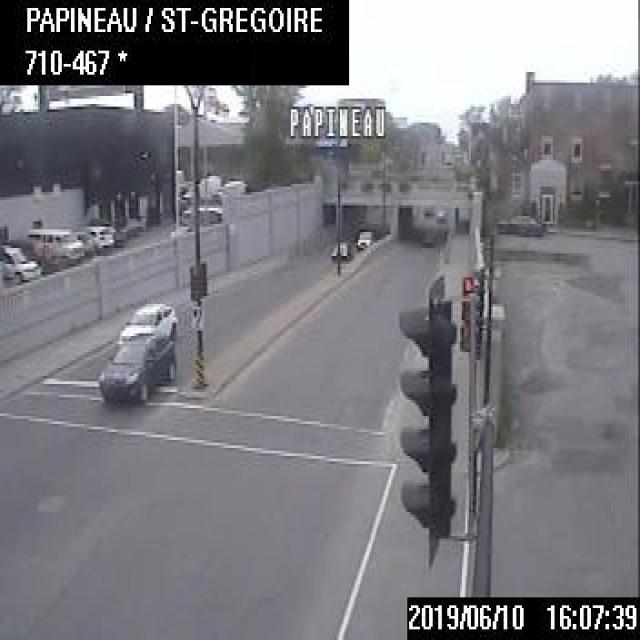vehicle: (94, 330, 178, 400), (114, 297, 176, 347), (25, 225, 83, 268), (0, 242, 44, 282), (76, 220, 115, 249), (329, 240, 349, 259), (354, 230, 372, 246)
